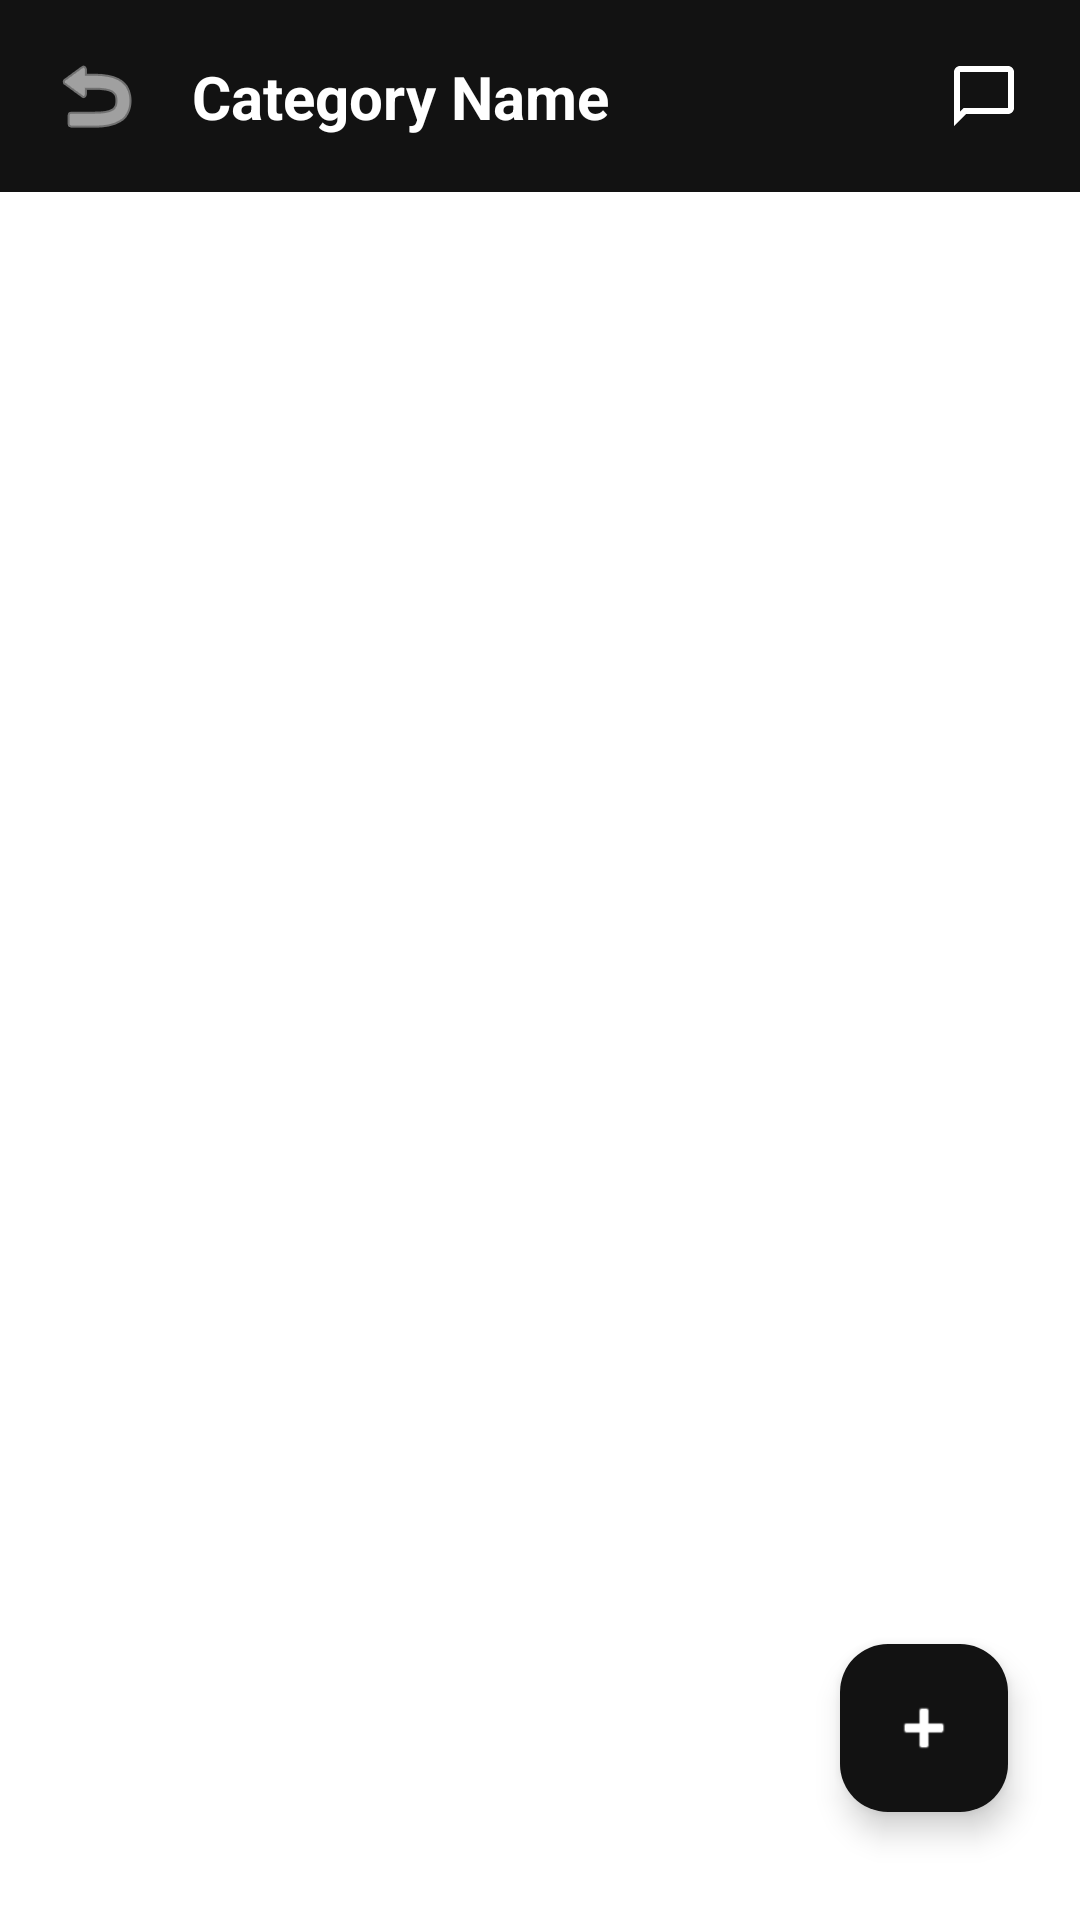

Screen size 1080w x 1920h. Icon name, then its center in pixels as (x=x, y=y):
add: (x=924, y=1728)
chat: (x=984, y=96)
revert: (x=97, y=96)
